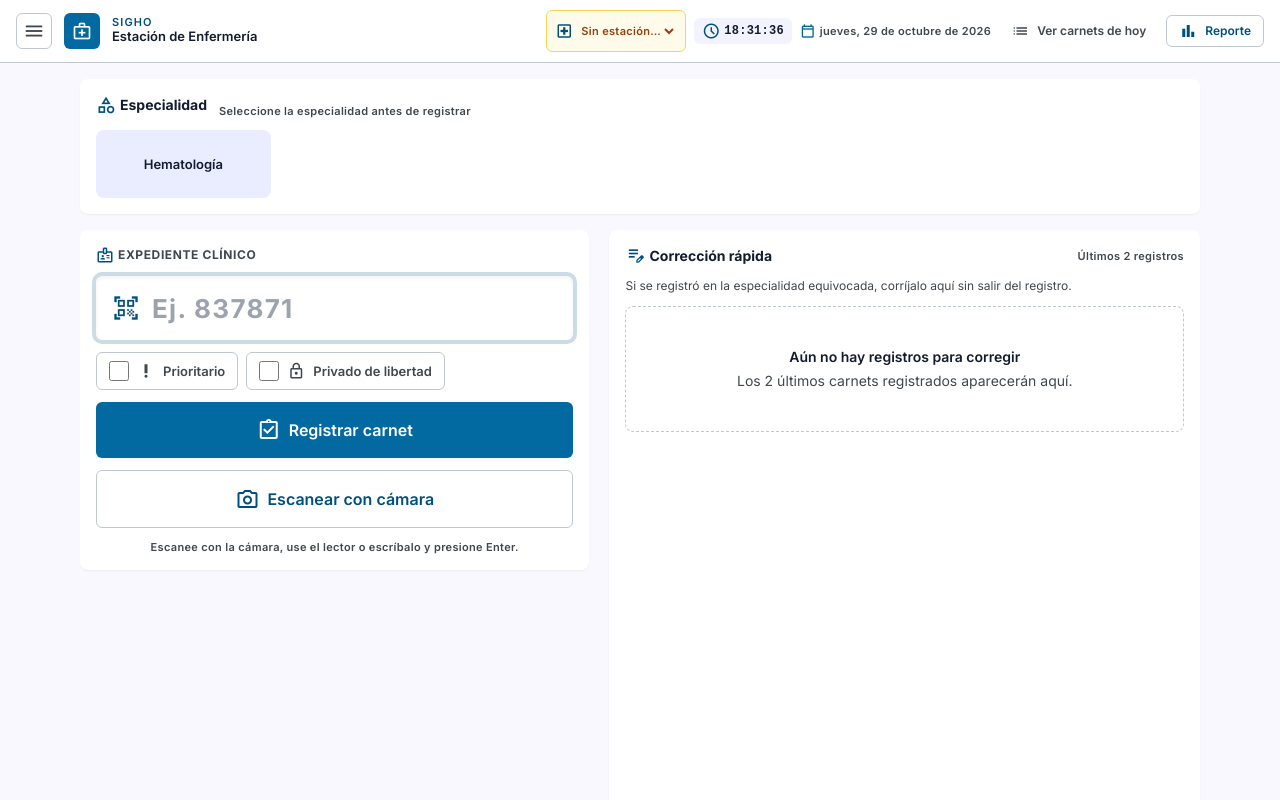
Test: RegistroCarnetsPage › abre el reporte de carnets en un panel lateral
Click the button "Reporte" at (1215, 31), box [1166, 15, 1264, 47]
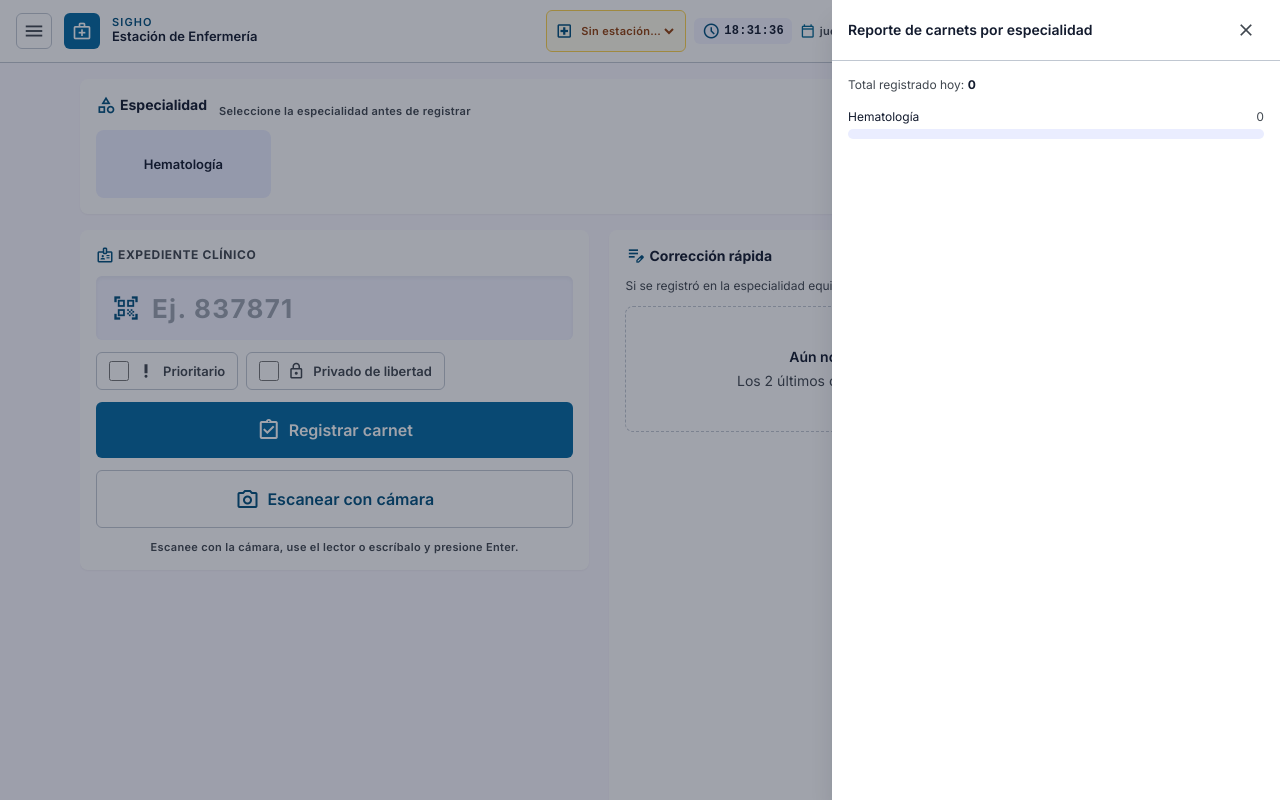
Expected: the heading "Reporte de carnets por especialidad" is shown, [848, 20, 1092, 40]
